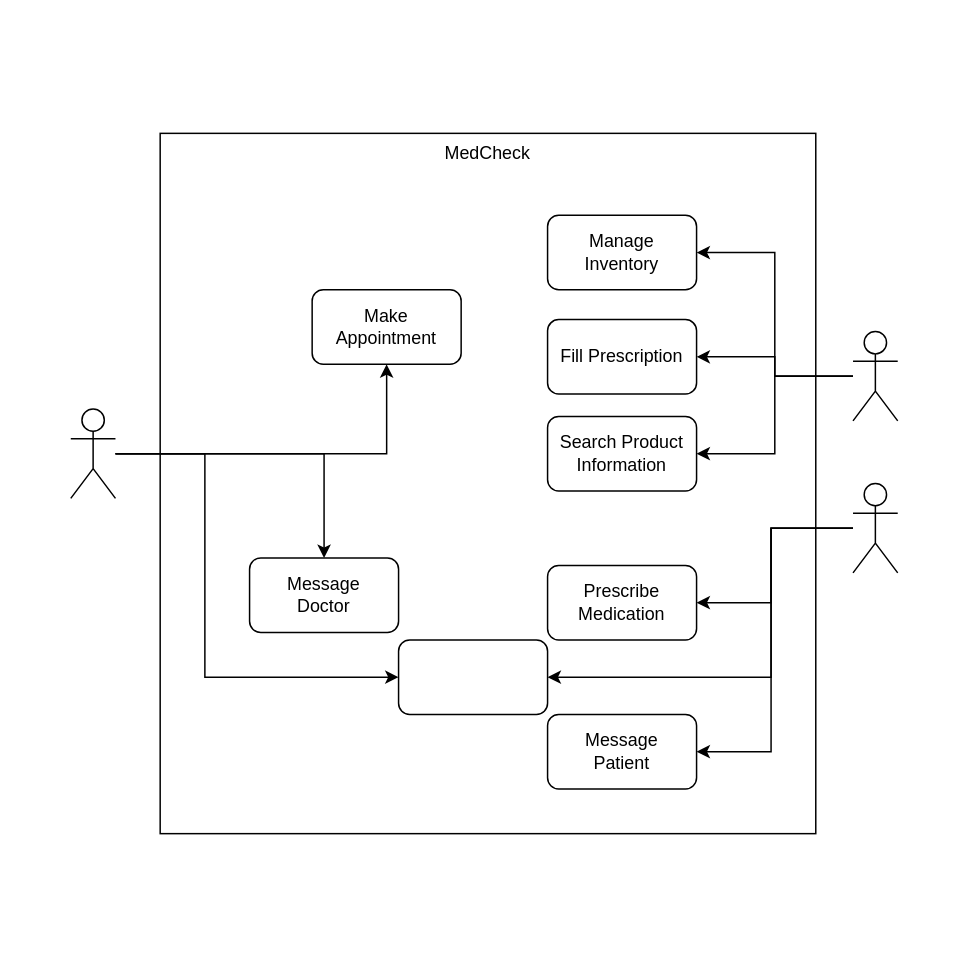
Some shapes in this 967 by 967 pixel diagram are drawn without their labels. Each missing label, with the box of its shape:
Doctor: (852, 482, 898, 573)
Patient: (69, 408, 115, 498)
Pharmacist: (852, 330, 898, 421)
View Patient Information: (397, 638, 548, 714)
